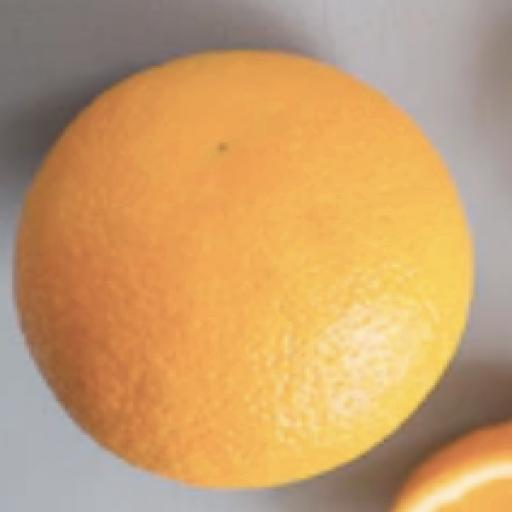orange: (17, 52, 473, 488), (392, 421, 511, 511)
